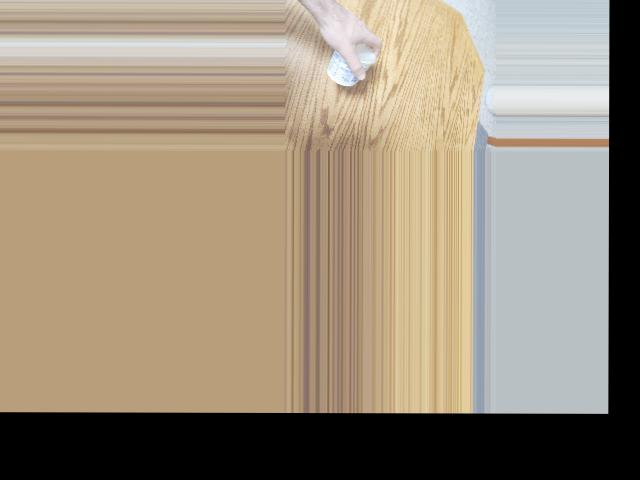cotage: (326, 38, 375, 83)
